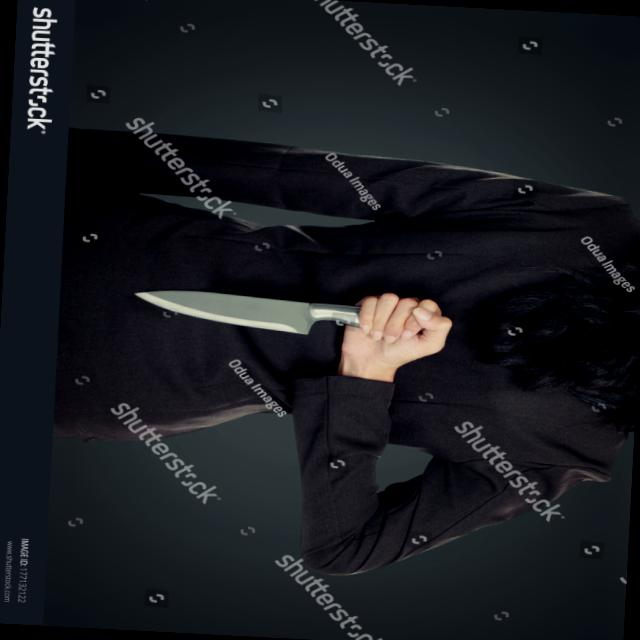knife: (126, 276, 458, 346)
